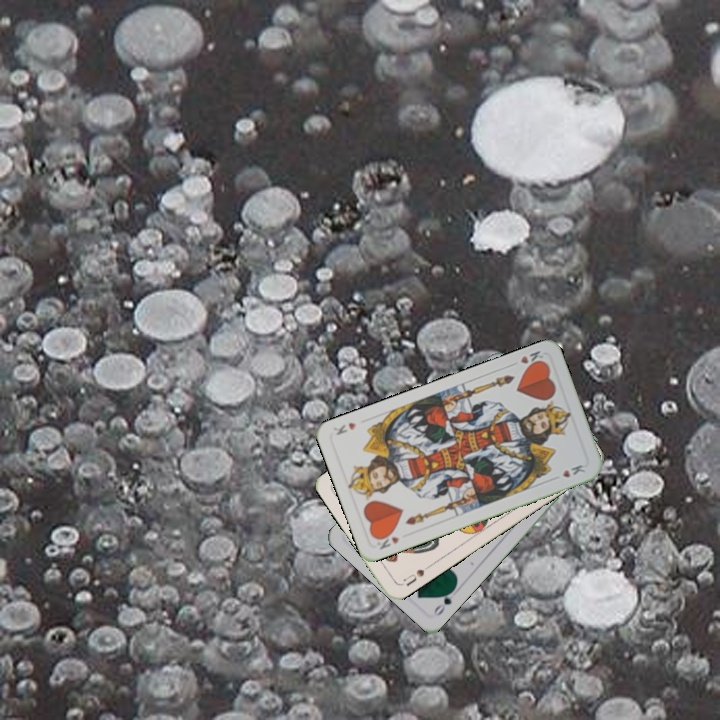GO: (429, 583, 458, 619)
HK: (516, 347, 548, 371), (372, 528, 402, 552)
SU: (397, 561, 433, 589)
